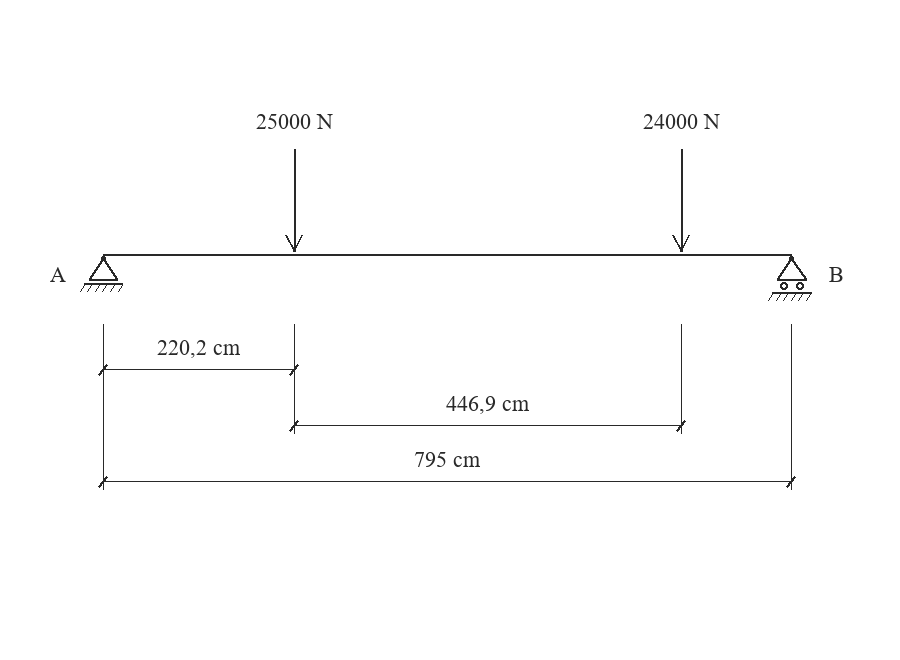pin_support: (80, 256, 123, 292)
point_load: (285, 149, 303, 252), (672, 149, 690, 252)
roller_support: (768, 256, 812, 301)
